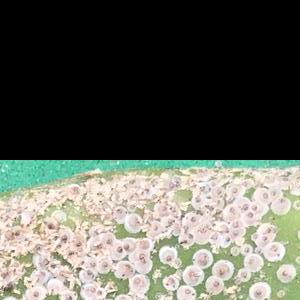Femea: (248, 158, 299, 215), (196, 161, 248, 214), (19, 260, 80, 299), (237, 224, 285, 270), (87, 230, 131, 276), (182, 247, 229, 289), (142, 205, 186, 241)
